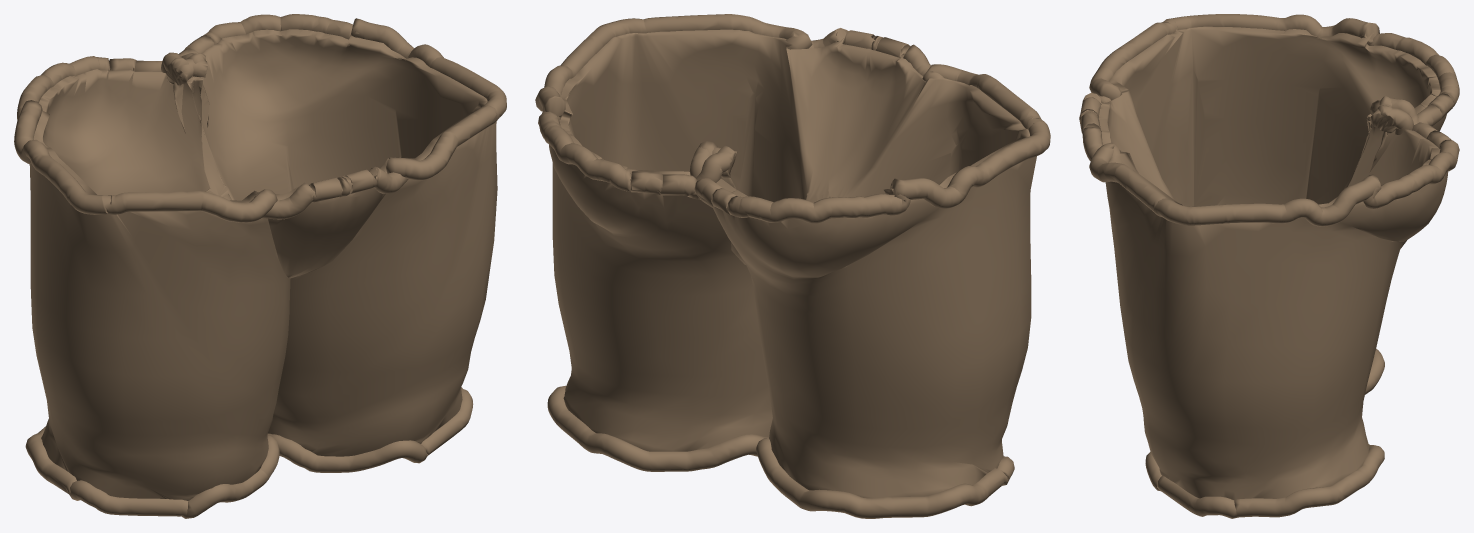
Rendered from 3HT-feminino.glb.
3 views of the same model, side by side, from view 1: azimuth 30°, elevation 25°; view 2: azimuth 150°, elevation 25°; view 3: azimuth 270°, elevation 25° (orthographic). The views are drawn at different scales.
Visible parts, largest first — view 1: fitted-shell, bound-edge (×3); view 2: fitted-shell, bound-edge (×3); view 3: fitted-shell, bound-edge (×3).
Boxes of the visible parts, x1=… form: fitted-shell: x1=29, y1=29, x2=497, y2=500; bound-edge (×3): x1=14, y1=14, x2=506, y2=518; fitted-shell: x1=549, y1=29, x2=1036, y2=498; bound-edge (×3): x1=535, y1=14, x2=1050, y2=518; fitted-shell: x1=1098, y1=26, x2=1448, y2=499; bound-edge (×3): x1=1079, y1=14, x2=1459, y2=518.
Size of the model in its own units: 0.0326 by 0.0255 by 0.0259.
